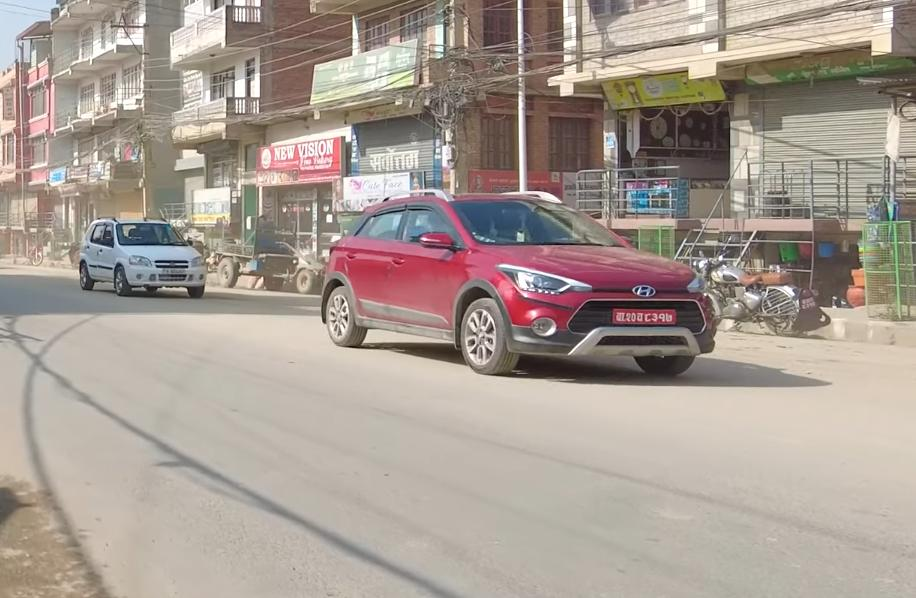bike: (694, 247, 817, 337)
car: (305, 182, 735, 393), (76, 215, 209, 303)
